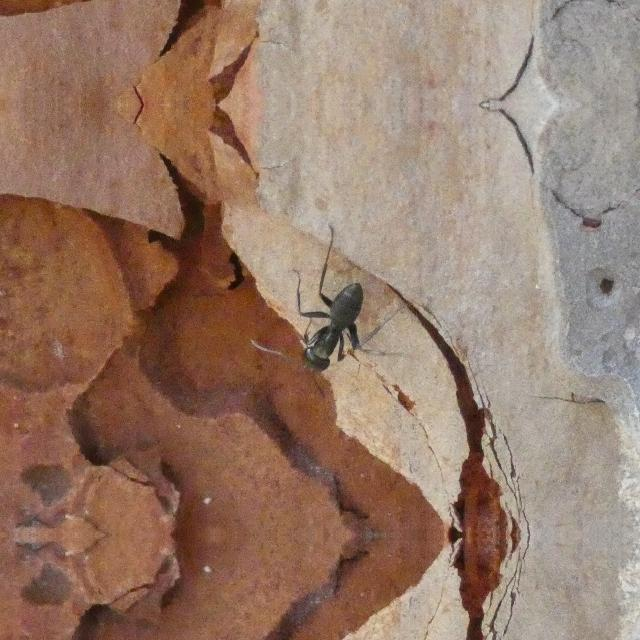Camponotus: (255, 262, 410, 398)
